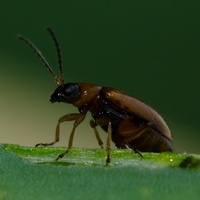insect: (17, 27, 171, 164)
